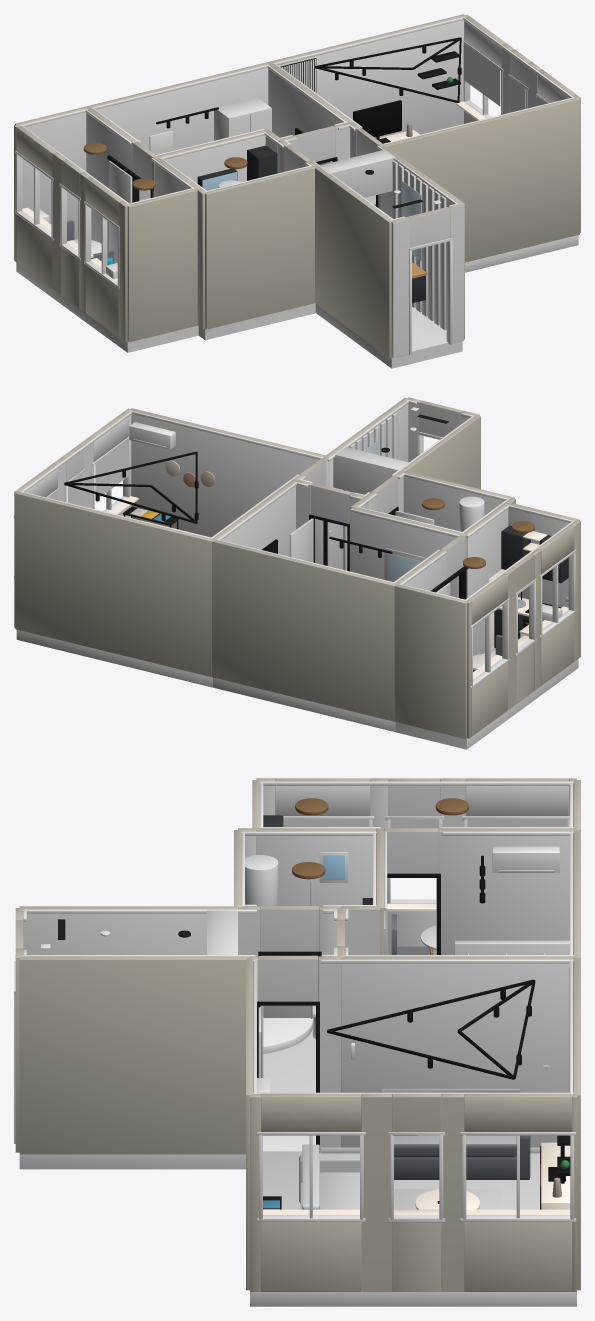
The model's file is flat.glb.
3 renders of one model, top to bottom at view 1: azimuth 30°, elevation 25°; view 2: azimuth 150°, elevation 25°; view 3: azimuth 270°, elevation 25°, orthographic. The views are drawn at different scales.
Parts seen in each view (by area): view 1: FlatBaked; view 2: FlatBaked; view 3: FlatBaked.
Part boxes in pixels (x1,y1,x2,y2): FlatBaked: (14,14,580,368); FlatBaked: (14,397,580,749); FlatBaked: (14,778,580,1306).
Bounding box in the file's own units: 9.52 × 2.94 × 7.14.
